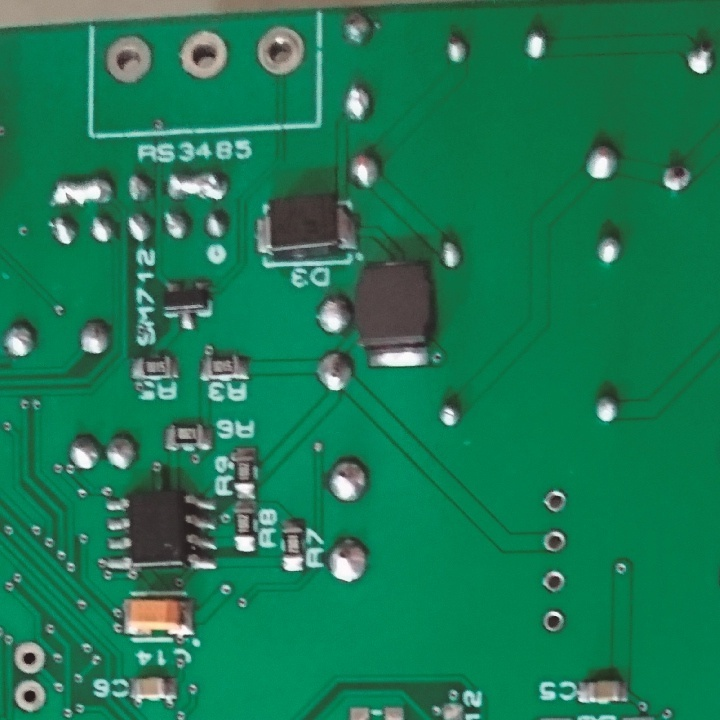F: (253, 24, 306, 78), (176, 29, 230, 81), (103, 34, 155, 86), (12, 639, 48, 675), (12, 677, 48, 712), (540, 567, 567, 595), (541, 528, 568, 555), (542, 488, 568, 514), (541, 609, 565, 635)
P: (168, 171, 230, 200), (50, 178, 114, 204)
